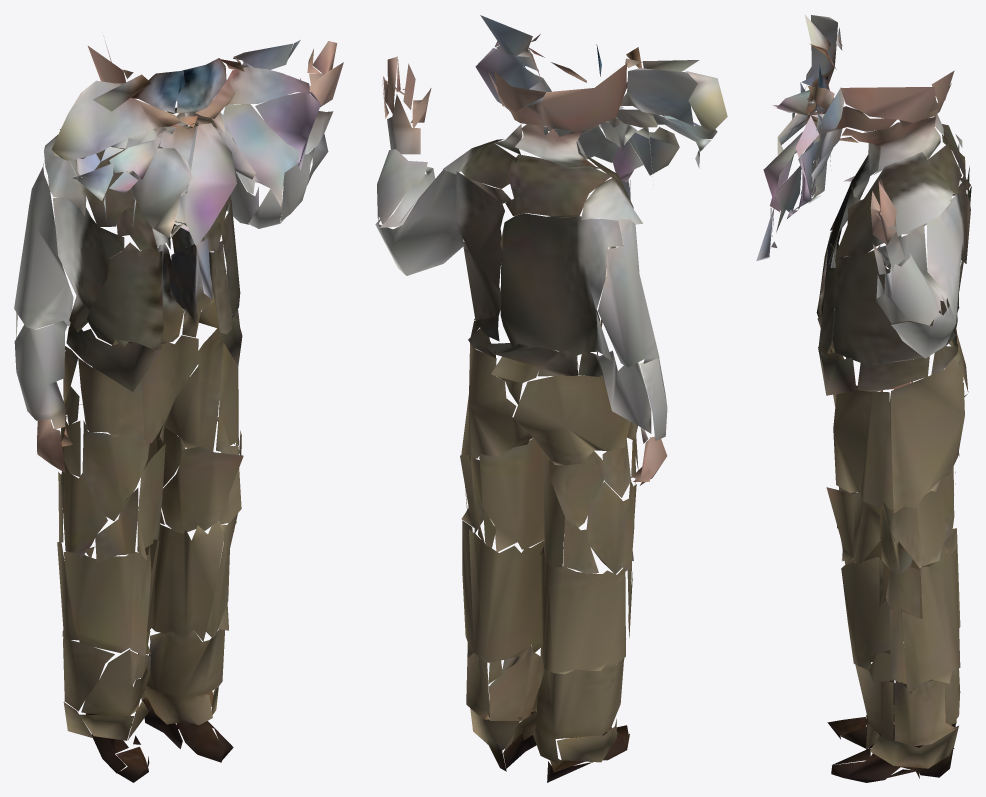
Rendered from crowd_annieh_body.glb.
3 renders of one model, left to right at view 1: azimuth 30°, elevation 25°; view 2: azimuth 150°, elevation 25°; view 3: azimuth 270°, elevation 25°, orthographic. The views are drawn at different scales.
Parts seen in each view (by area): view 1: tripo_node_1126258b-1cb4-43a4-b5b0-aa4036e8409b; view 2: tripo_node_1126258b-1cb4-43a4-b5b0-aa4036e8409b; view 3: tripo_node_1126258b-1cb4-43a4-b5b0-aa4036e8409b.
Part boxes in pixels (bbox=[...]): tripo_node_1126258b-1cb4-43a4-b5b0-aa4036e8409b: bbox=[14, 36, 343, 782]; tripo_node_1126258b-1cb4-43a4-b5b0-aa4036e8409b: bbox=[375, 15, 727, 782]; tripo_node_1126258b-1cb4-43a4-b5b0-aa4036e8409b: bbox=[756, 14, 971, 782].
Size of the model in its own units: 0.3836 by 0.805 by 0.2248.
Materials: 1 (1 with a texture image).
